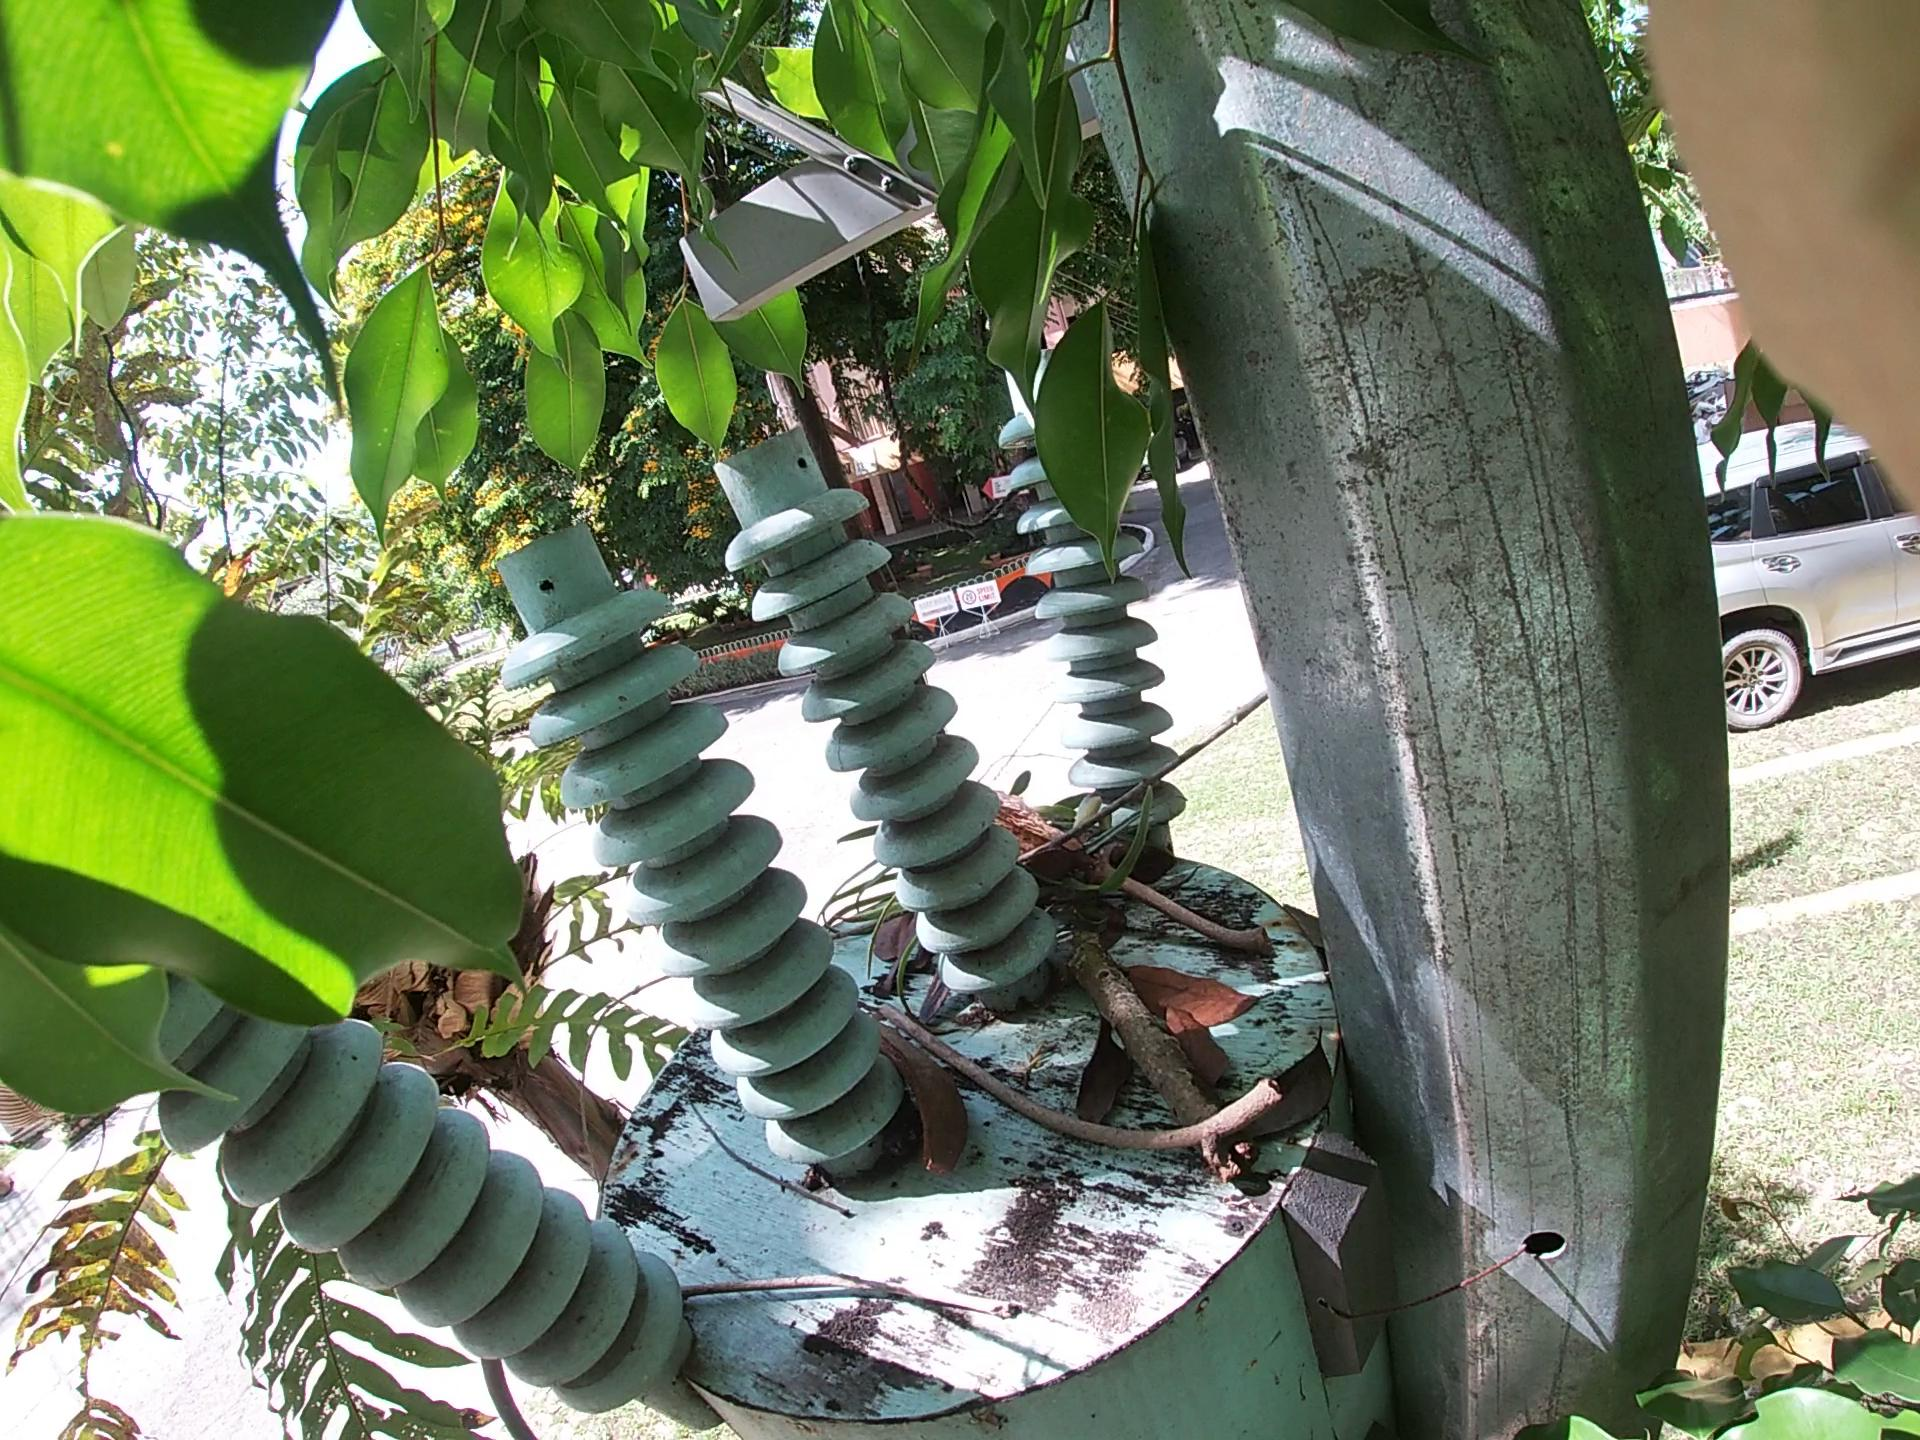branch with leaves: (918, 740, 1364, 961)
leaf: (1110, 923, 1256, 1095)
tree branch: (939, 597, 1274, 992), (906, 1000, 1285, 1218), (614, 1215, 1061, 1386), (1085, 817, 1277, 973)
